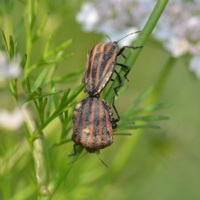insect: (72, 33, 142, 154), (83, 31, 140, 95)
